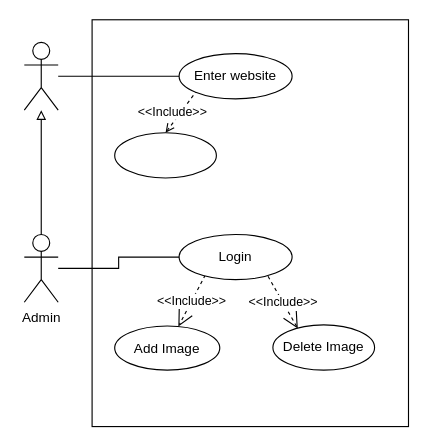
This 428x446 diagram has some shape labels left out. The centre of each missing label's shape, as x and y in pixels:
"Normal User" belongs at (x=40, y=75).
"Send email" belongs at (x=165, y=155).
